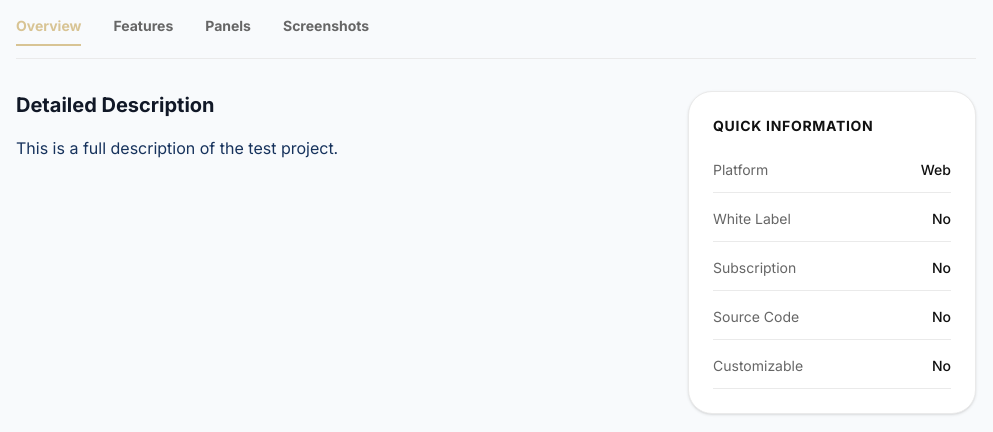
Test case: ProjectTabs Component › switches to the Features tab when clicked
This screenshot has width=993, height=432.
Click the Features tab
Click the button "Features".
click(143, 31)  # box [113, 16, 173, 46]
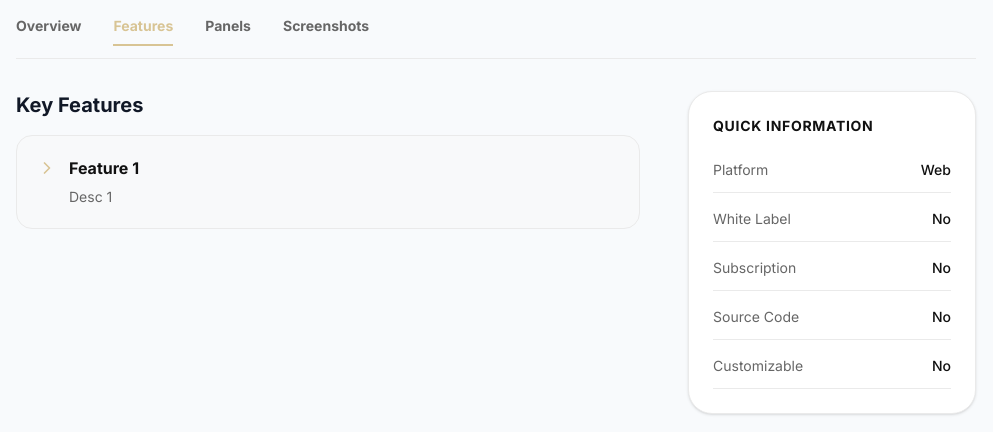
expect the heading "Key Features" is shown: met, box [16, 93, 143, 117]
expect the text "Feature 1" is shown: met, box [69, 156, 139, 180]
expect the text "Desc 1" is shown: met, box [69, 188, 112, 205]
